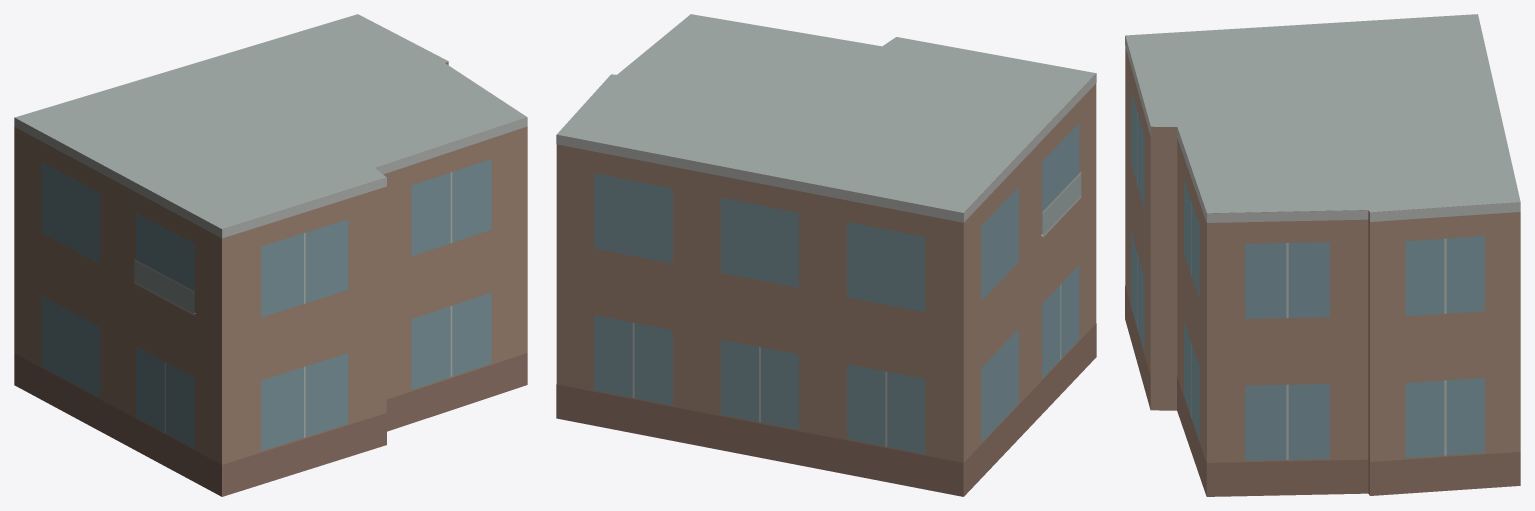
Rendered from survey-upis-32945206.glb.
3 renders of one model, left to right at view 1: azimuth 30°, elevation 25°; view 2: azimuth 150°, elevation 25°; view 3: azimuth 270°, elevation 25°, orthographic. The views are drawn at different scales.
Visible parts, largest first — view 1: survey-upis-32945206.tmp; view 2: survey-upis-32945206.tmp; view 3: survey-upis-32945206.tmp.
Part boxes in pixels (x1,y1,x2,y2): survey-upis-32945206.tmp: (14,14,527,496); survey-upis-32945206.tmp: (556,14,1096,496); survey-upis-32945206.tmp: (1125,14,1520,496).
Size of the model in its own units: 10.71 by 7.1 by 8.98.
